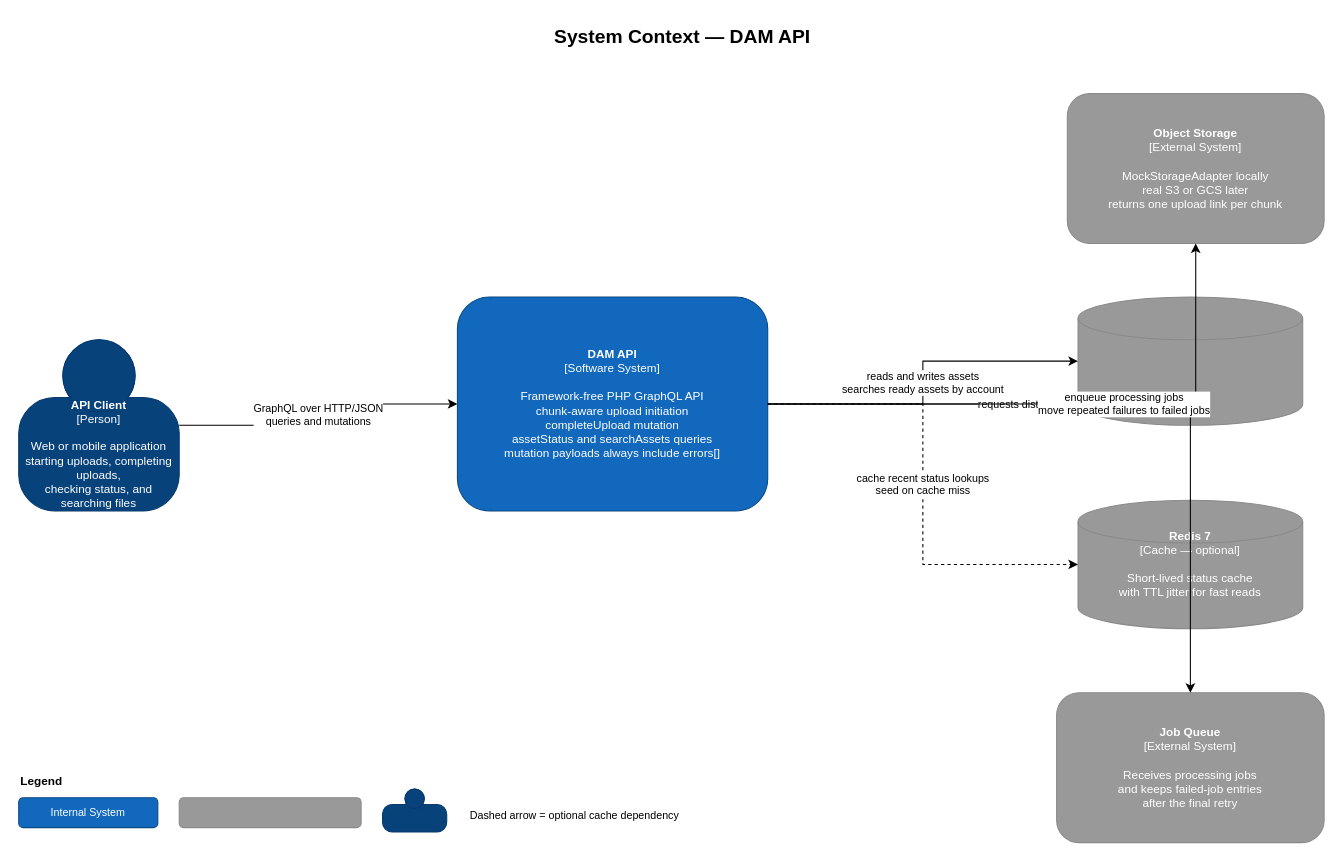
This 1343x861 diagram has some shape labels left out. Each missing label, with the centre of its shape:
External System / Database: the point at 269,812
MySQL 8 [Database] Stores asset metadata upload state and search data: the point at 1190,360
Person: the point at 414,810
